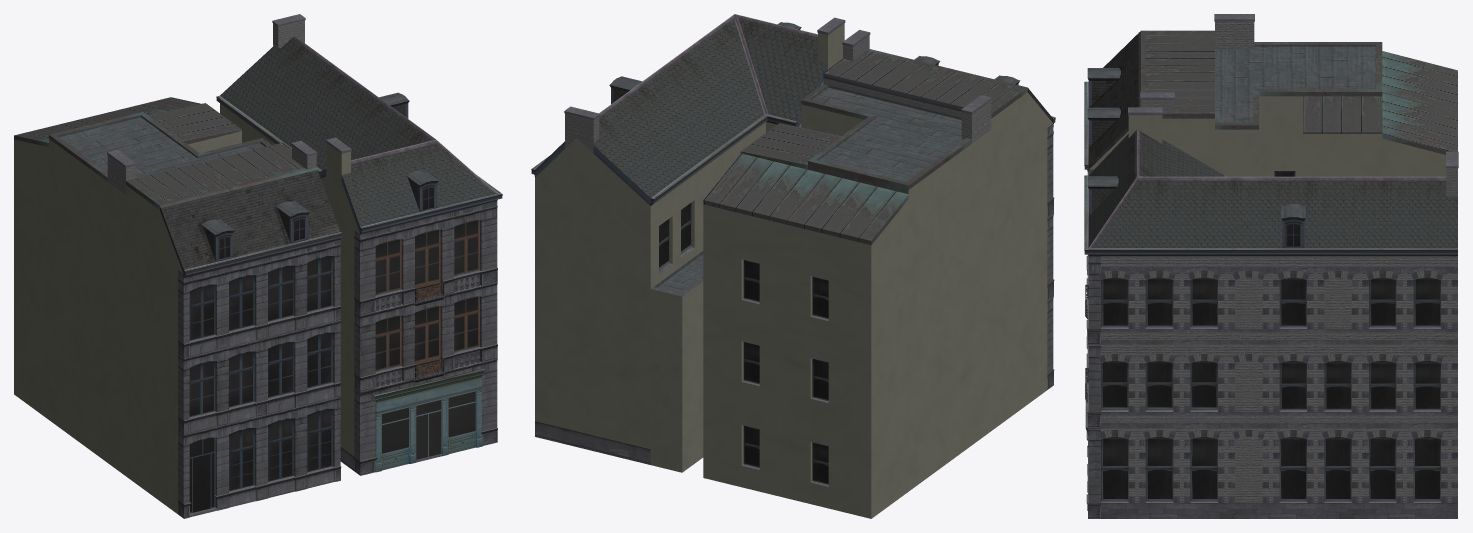
The model's file is shop.glb.
3 renders of one model, left to right at view 1: azimuth 30°, elevation 25°; view 2: azimuth 150°, elevation 25°; view 3: azimuth 270°, elevation 25°, orthographic. The views are drawn at different scales.
Visible parts, largest first — view 1: m; view 2: m; view 3: m.
Boxes of the visible parts, box(x1,y1,x2,y2) form: m: box(14, 14, 502, 518); m: box(531, 14, 1055, 518); m: box(1084, 14, 1458, 518).
Bounding box in the file's own units: 16.2 × 15.17 × 15.2.
Materials: 2 (2 with a texture image).
